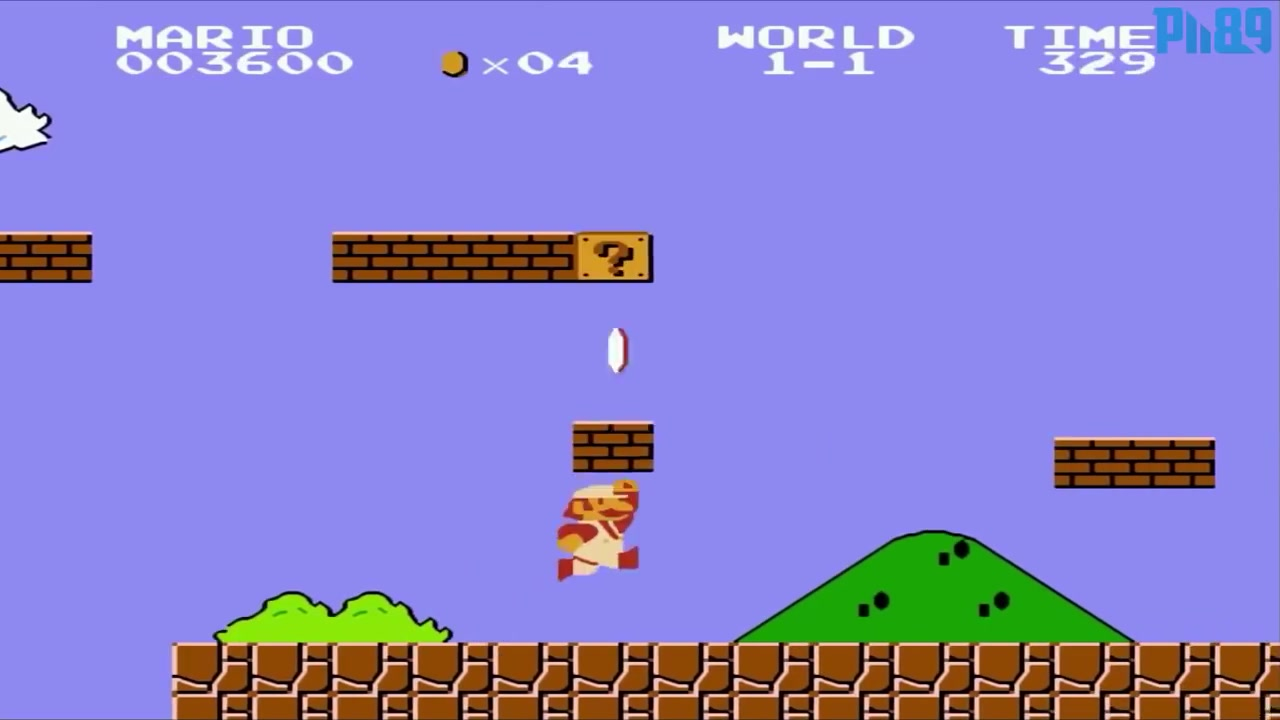mario: (552, 474, 646, 588)
